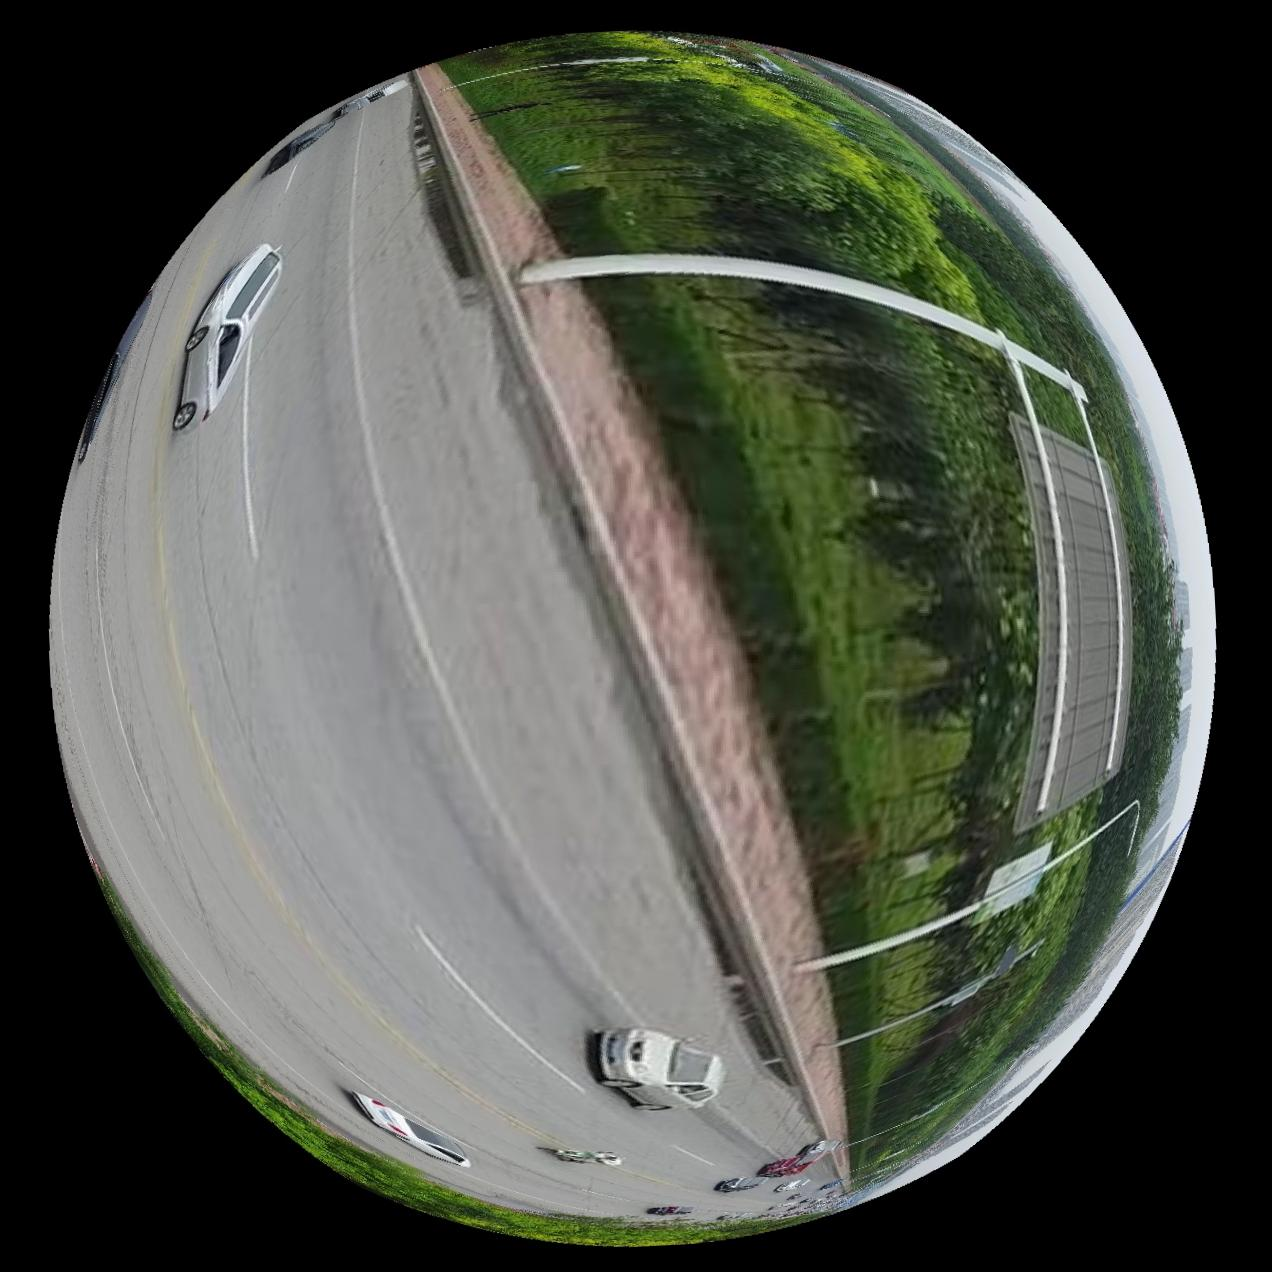cars: (169, 242, 282, 434), (594, 1030, 725, 1114), (349, 1094, 468, 1169), (261, 112, 337, 175), (331, 75, 407, 116)
trees: (444, 33, 1188, 1174)
